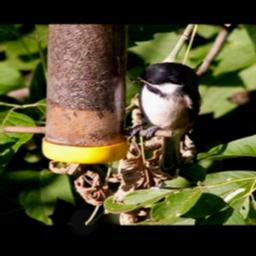Swallow: (125, 59, 203, 142)
